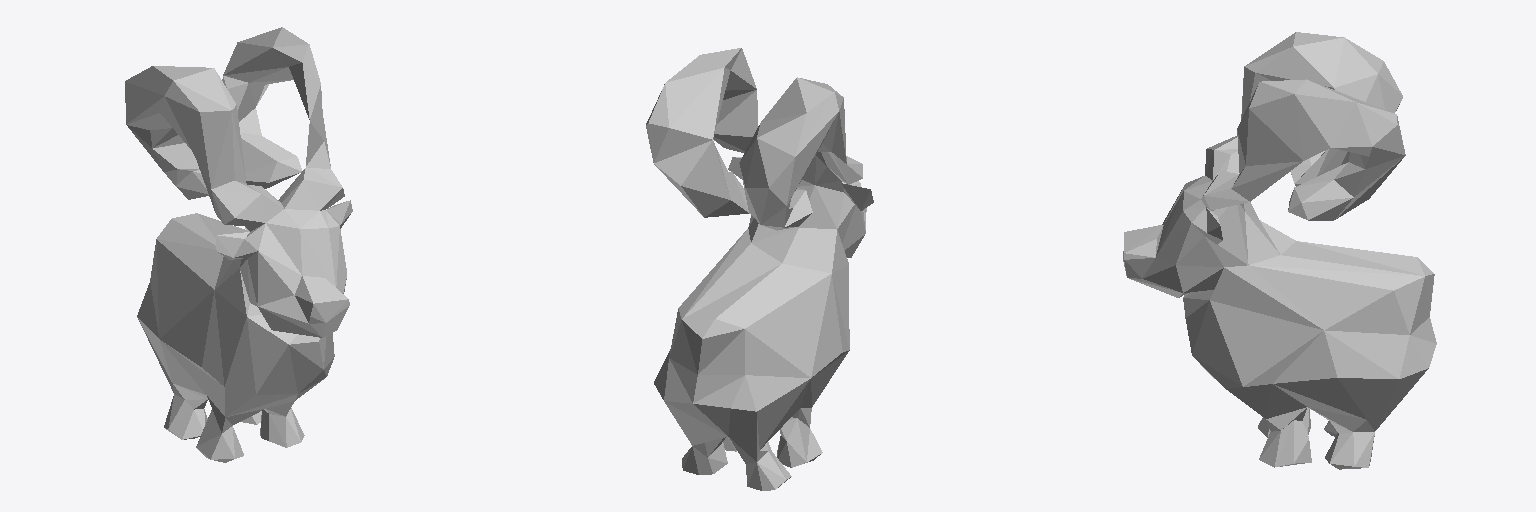
File: cabraa.obj
3 renders of one model, left to right at view 1: azimuth 30°, elevation 25°; view 2: azimuth 150°, elevation 25°; view 3: azimuth 270°, elevation 25°, orthographic.
Parts seen in each view (by area): view 1: cabra_Cube.067; view 2: cabra_Cube.067; view 3: cabra_Cube.067.
Boxes of the visible parts, x1=… form: cabra_Cube.067: x1=125, y1=27, x2=352, y2=462; cabra_Cube.067: x1=646, y1=48, x2=873, y2=490; cabra_Cube.067: x1=1123, y1=32, x2=1436, y2=469.
Bounding box in the file's own units: 64.83 × 146 × 108.